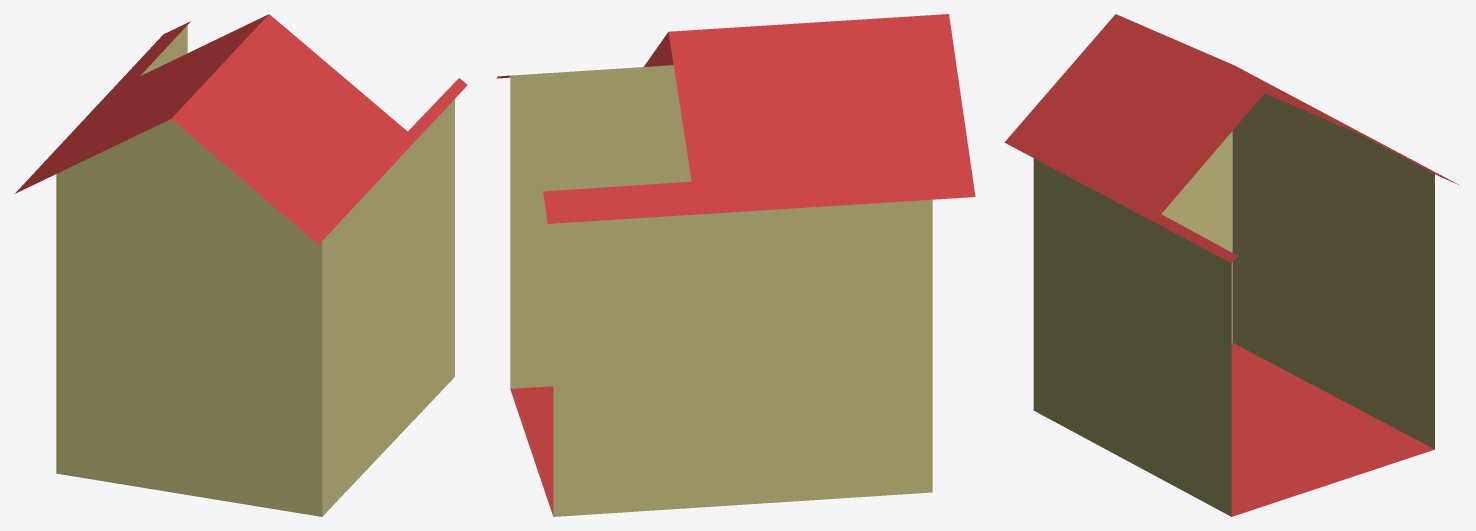
3 renders of one model, left to right at view 1: azimuth 30°, elevation 25°; view 2: azimuth 150°, elevation 25°; view 3: azimuth 270°, elevation 25°, orthographic. The views are drawn at different scales.
Bounding box in the file's own units: 12.88 × 12.57 × 10.63.
